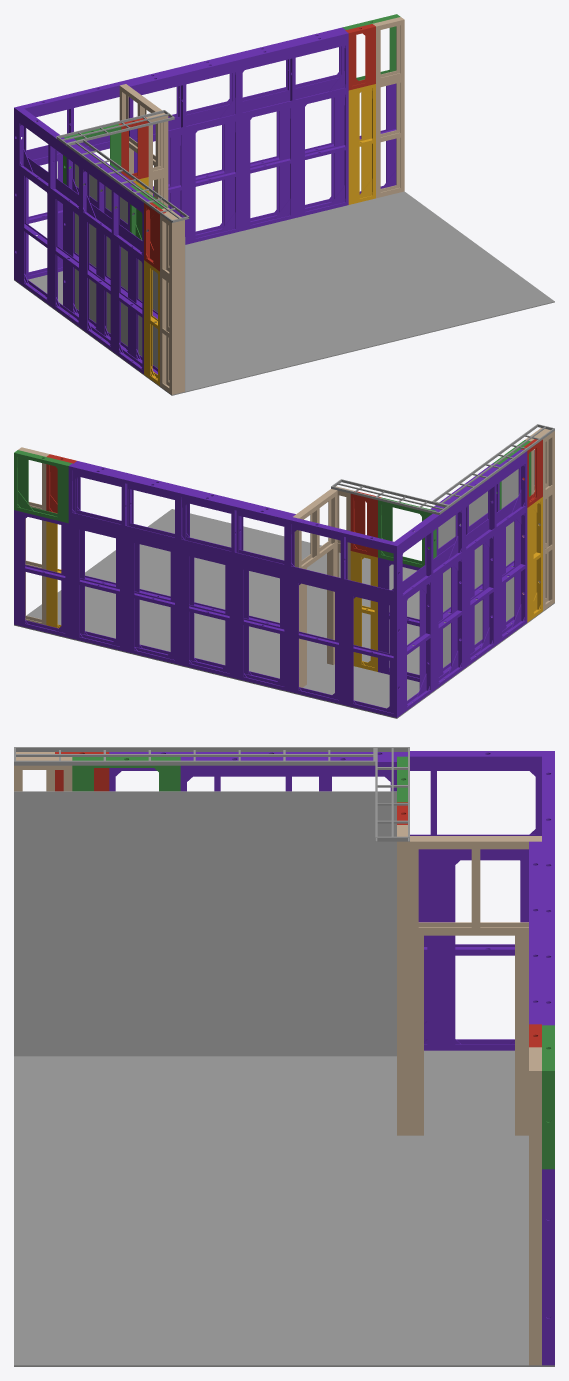
The model's file is model-2349e9525dba.glb.
3 renders of one model, top to bottom at view 1: azimuth 30°, elevation 25°; view 2: azimuth 150°, elevation 25°; view 3: azimuth 270°, elevation 25°, orthographic. The views are drawn at different scales.
Visible parts, largest first — view 1: Пол 16 мм, Body18 (×16), Body17 (×8), Лист МДФ 1, Body23 (×3), Торец 2 (×2), Лист МДФ 2, Body22, Body2 (×2), Стойка 2, Стойка 4; view 2: Body18 (×26), Пол 16 мм, Body17 (×16), Body22 (×10), Body15 (×10), Body23 (×3), Лист МДФ 1, Лист МДФ 2, Панель 1 (×3), Body1 (×2), Труба 40x20x2 1 (×2), Труба 40x20x2 2 (×2) (+7 smaller); view 3: Пол 16 мм, Лист МДФ 2, Лист МДФ 1, Торец 2 (×4), Панель 2 (×2), Body15 (×5), Body17 (×2), Body16 (×3), Body18 (×3), Труба 40x20x2 2, Body23 (×2), Труба 40x20x2 1 (+4 smaller).
Boxes of the visible parts, box(x1,y1,x2,y2) form: Пол 16 мм: box(14, 191, 554, 395); Body18 (×16): box(17, 78, 396, 358); Body17 (×8): box(21, 34, 345, 250); Лист МДФ 1: box(75, 164, 125, 344); Body23 (×3): box(144, 91, 371, 375); Торец 2 (×2): box(172, 277, 184, 394); Лист МДФ 2: box(125, 201, 185, 391); Body22: box(348, 91, 359, 201); Body2 (×2): box(137, 26, 375, 179); Стойка 2: box(376, 87, 380, 193); Стойка 4: box(400, 81, 404, 187); Body18 (×26): box(14, 452, 525, 711); Пол 16 мм: box(14, 509, 554, 718); Body17 (×16): box(61, 464, 520, 705); Body22 (×10): box(65, 466, 527, 714); Body15 (×10): box(69, 461, 524, 717); Body23 (×3): box(46, 507, 533, 664); Лист МДФ 1: box(438, 495, 482, 667); Лист МДФ 2: box(482, 450, 534, 638); Панель 1 (×3): box(299, 545, 337, 687); Body1 (×2): box(367, 439, 542, 557); Труба 40x20x2 1 (×2): box(331, 428, 554, 514); Труба 40x20x2 2 (×2): box(341, 424, 537, 507); Пол 16 мм: box(14, 1050, 554, 1366); Лист МДФ 2: box(14, 791, 217, 1056); Лист МДФ 1: box(217, 791, 396, 1056); Торец 2 (×4): box(398, 841, 540, 1365); Панель 2 (×2): box(410, 935, 528, 1135); Body15 (×5): box(530, 751, 553, 1025); Body17 (×2): box(410, 834, 535, 1044); Body16 (×3): box(180, 751, 553, 1365); Body18 (×3): box(193, 751, 535, 1023); Труба 40x20x2 2: box(14, 760, 375, 765); Body23 (×2): box(377, 756, 535, 1044); Труба 40x20x2 1: box(14, 747, 375, 751).
Bounding box in the file's own units: 7 × 3.06 × 5.
